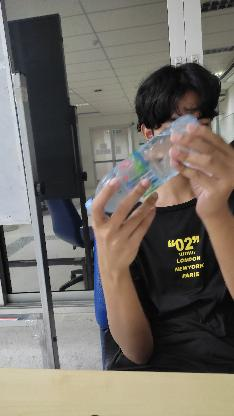Plastic Bottle: (85, 112, 207, 226)
